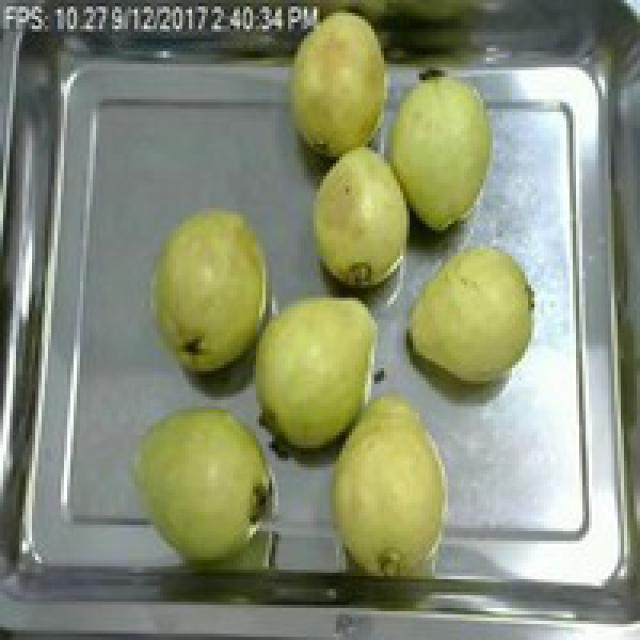Fruit: (118, 397, 288, 566), (317, 384, 461, 573), (140, 198, 282, 384), (247, 282, 391, 458), (371, 61, 506, 240), (400, 236, 544, 394), (276, 0, 406, 170), (301, 138, 422, 298)
